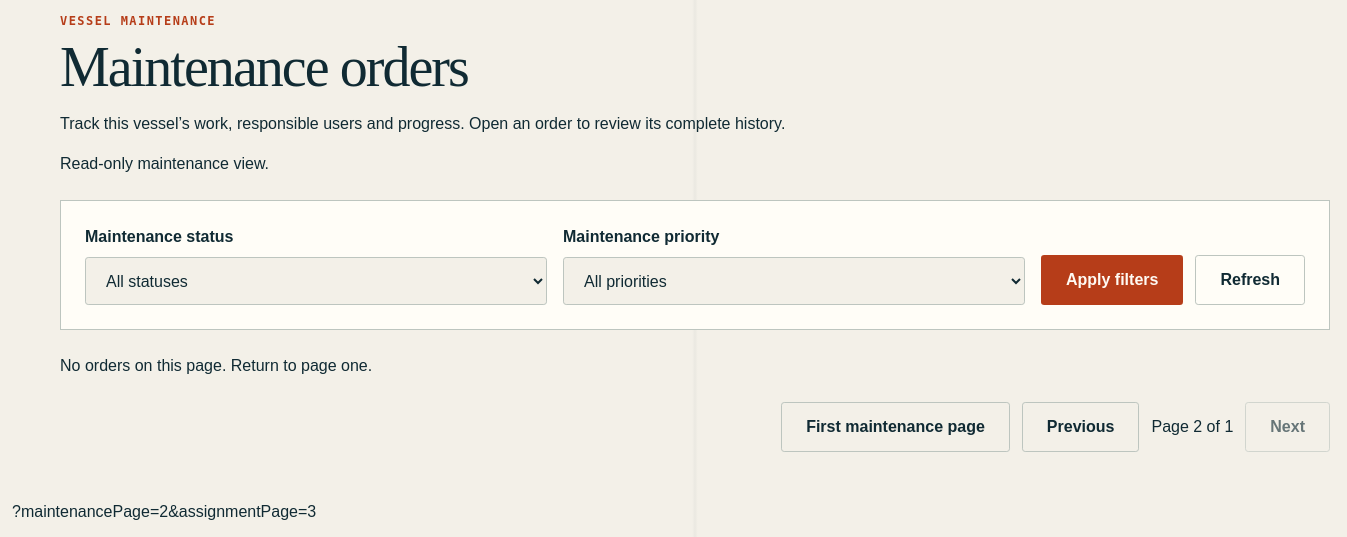
Test: keeps maintenance filters in the URL, resets its page and preserves other workspace parameters
Expected: the text "No orders on this page. Return to page one." is shown, [60,357,372,374]
Select "High" in the dropdown labelled "Maintenance priority" at point(794, 281), box [563,257,1025,305]
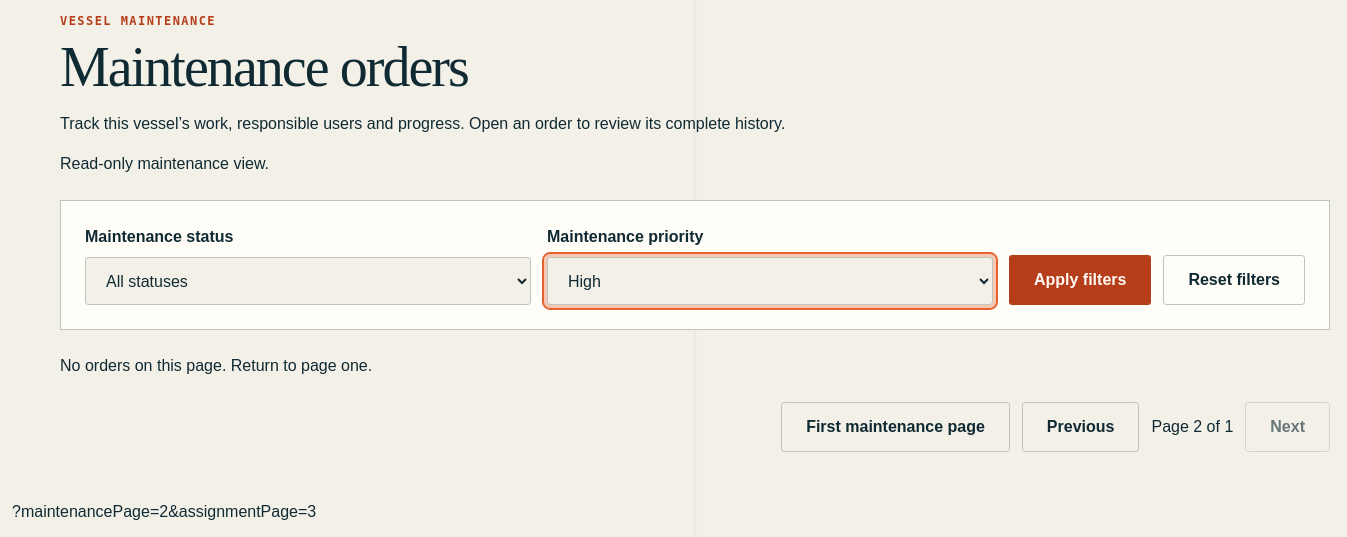
Click the button with aria-label "Apply maintenance filters" at point(1080, 280), box [1009,255,1151,305]
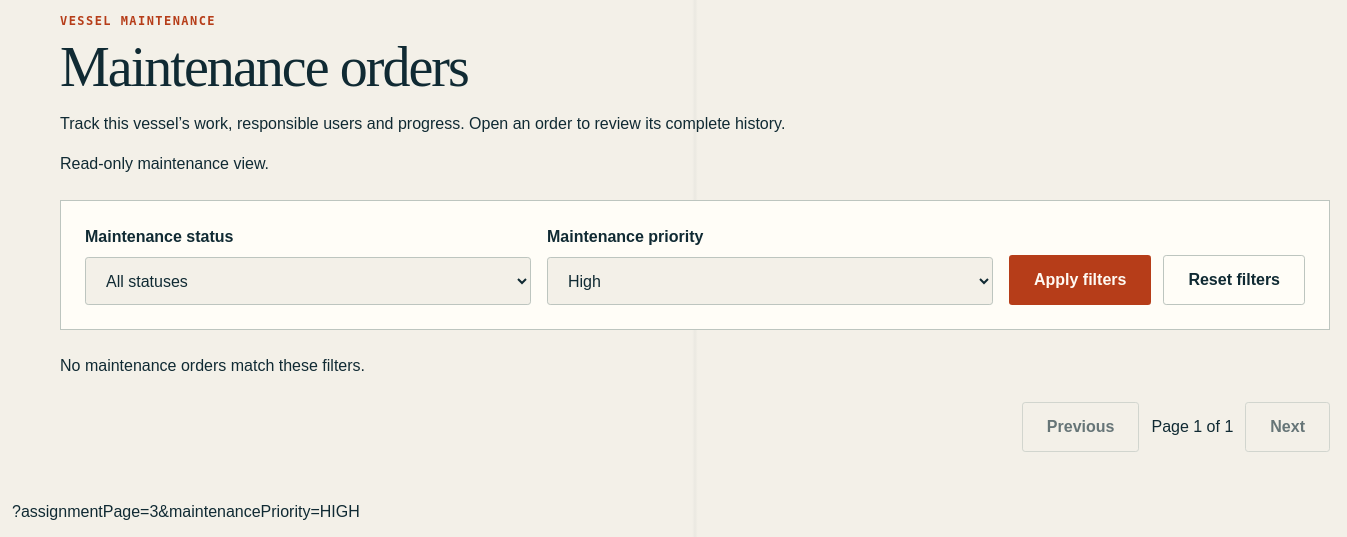
Expected: the text "No maintenance orders match these filters." is shown, [60,357,365,374]
Expected: the text named "Workspace URL" shows "maintenancePriority=HIGH", [12,503,360,520]
Expected: the text named "Workspace URL" no longer shows "maintenancePage=2", [12,503,360,520]
Click the button "Reset filters" at point(1234, 280), box [1163,255,1305,305]
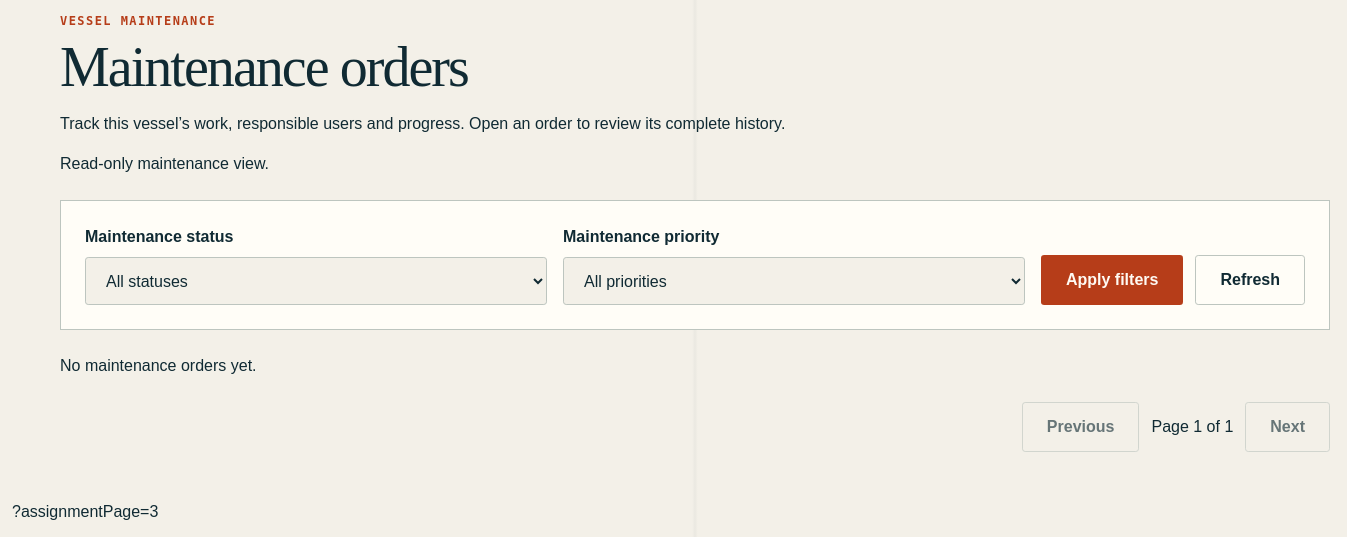
Expected: the text "No maintenance orders yet." is shown, [60,357,256,374]
Expected: the dropdown labelled "Maintenance priority" shows "All priorities", [563,257,1025,305]
Expected: the button with aria-label "Refresh maintenance orders" is shown, [1195,255,1305,305]
